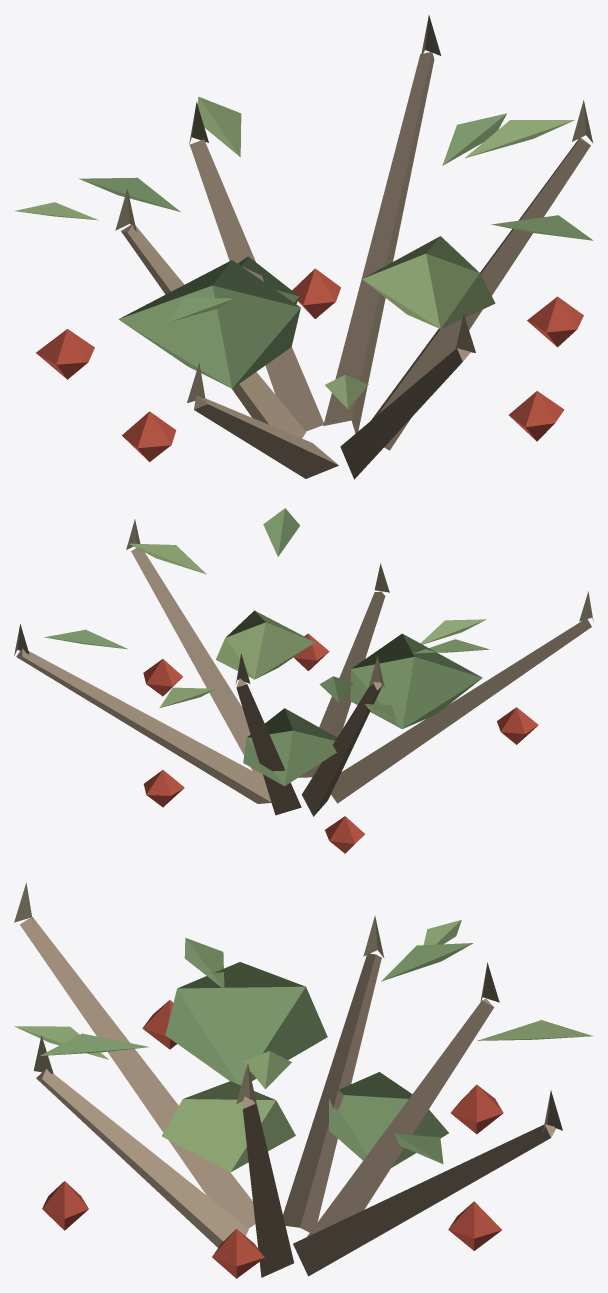
File: cao.hanji@fruiting__summer.glb
3 renders of one model, top to bottom at view 1: azimuth 30°, elevation 25°; view 2: azimuth 150°, elevation 25°; view 3: azimuth 270°, elevation 25°, orthographic. The views are drawn at different scales.
Visible parts, largest first — view 1: cao.hanji@fruiting__summer; view 2: cao.hanji@fruiting__summer; view 3: cao.hanji@fruiting__summer.
Part boxes in pixels (left/top/right/bottom): cao.hanji@fruiting__summer: left=15, top=15, right=593, bottom=479; cao.hanji@fruiting__summer: left=14, top=508, right=593, bottom=853; cao.hanji@fruiting__summer: left=14, top=883, right=593, bottom=1278.
Size of the model in its own units: 2.06 by 1.17 by 1.99.
